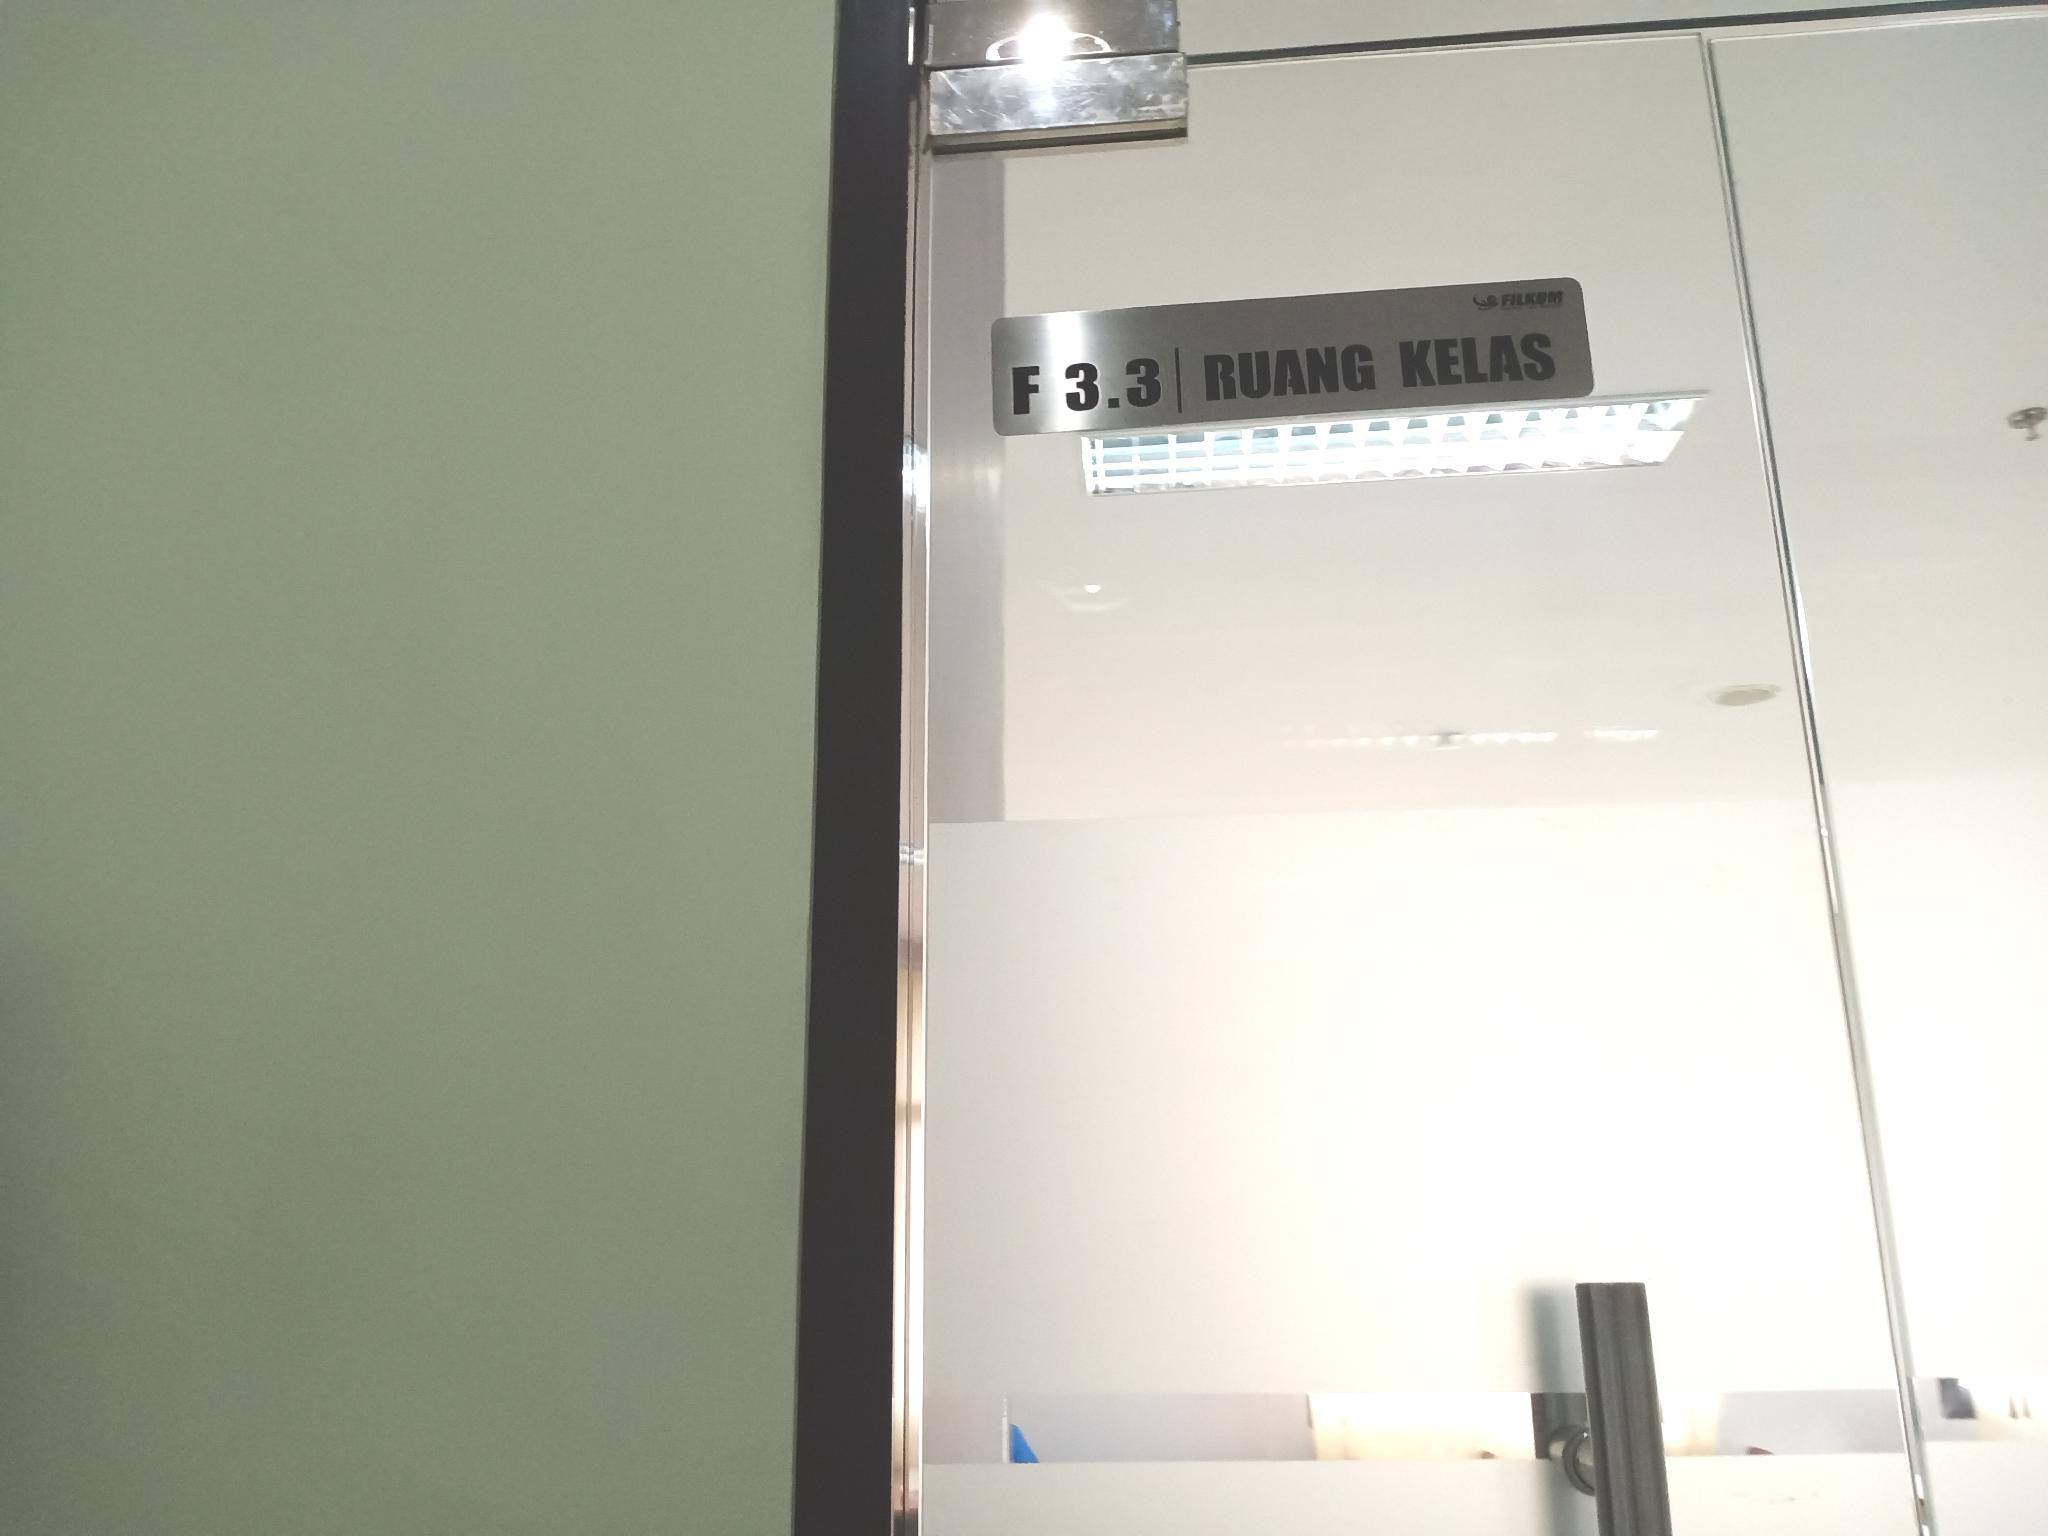plate: (993, 278, 1595, 437)
